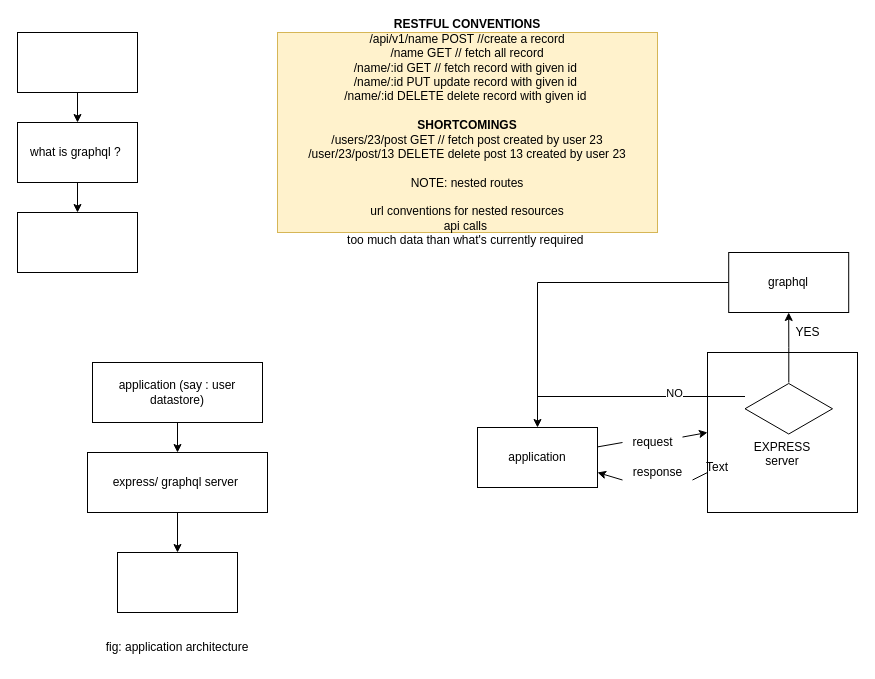
This 875x679 diagram has some shape labels left out. Each missing label, with the box of its shape:
datastore: (116, 552, 238, 612)
graphql request?: (744, 382, 832, 435)
Why do we use graphql ?: (16, 212, 138, 272)
Why does graphql exist ?: (16, 32, 138, 92)
